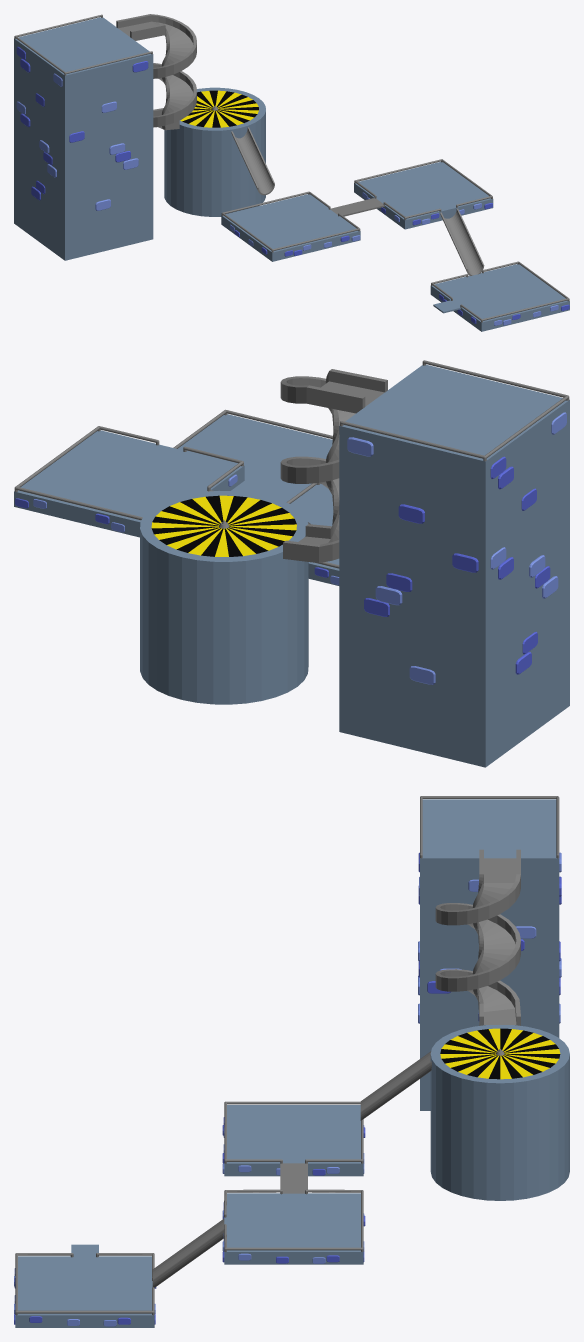
File: Level 1.fbx
3 views of the same model, one above another, from view 1: azimuth 30°, elevation 25°; view 2: azimuth 150°, elevation 25°; view 3: azimuth 270°, elevation 25° (orthographic). The views are drawn at different scales.
Parts seen in each view (by area): view 1: BaseKitchen, CylinderSpin, BaseCustomer2, BaseCustomer, BaseCustomer1, Plane.002, ObjSpin, Plane1, Plane1.001, Plane; view 2: BaseKitchen, CylinderSpin, BaseCustomer1, Plane.002, ObjSpin, BaseCustomer2, BaseCustomer; view 3: BaseKitchen, CylinderSpin, BaseCustomer2, BaseCustomer1, BaseCustomer, Plane.002, ObjSpin, Plane1, Plane1.001, Plane.
Boxes of the visible parts, x1,y1,x2,y2 form: BaseKitchen: [14, 14, 153, 260]; CylinderSpin: [164, 87, 265, 216]; BaseCustomer2: [430, 261, 569, 331]; BaseCustomer: [221, 191, 360, 261]; BaseCustomer1: [354, 159, 493, 229]; Plane.002: [116, 14, 196, 130]; ObjSpin: [180, 90, 258, 127]; Plane1: [440, 208, 484, 275]; Plane1.001: [231, 127, 274, 195]; Plane: [330, 198, 384, 216]; BaseKitchen: [339, 360, 569, 767]; CylinderSpin: [140, 490, 308, 704]; BaseCustomer1: [14, 426, 244, 537]; Plane.002: [280, 369, 387, 563]; ObjSpin: [151, 495, 296, 556]; BaseCustomer2: [173, 409, 332, 502]; BaseCustomer: [286, 483, 339, 585]; BaseKitchen: [418, 796, 561, 1110]; CylinderSpin: [430, 1025, 569, 1200]; BaseCustomer2: [14, 1244, 156, 1327]; BaseCustomer1: [222, 1189, 365, 1264]; BaseCustomer: [222, 1101, 365, 1176]; Plane.002: [435, 849, 520, 1025]; ObjSpin: [440, 1028, 560, 1079]; Plane1: [152, 1218, 224, 1287]; Plane1.001: [360, 1051, 431, 1120]; Plane: [280, 1163, 307, 1193].
Size of the model in its own units: 4059 by 2371 by 3990.
